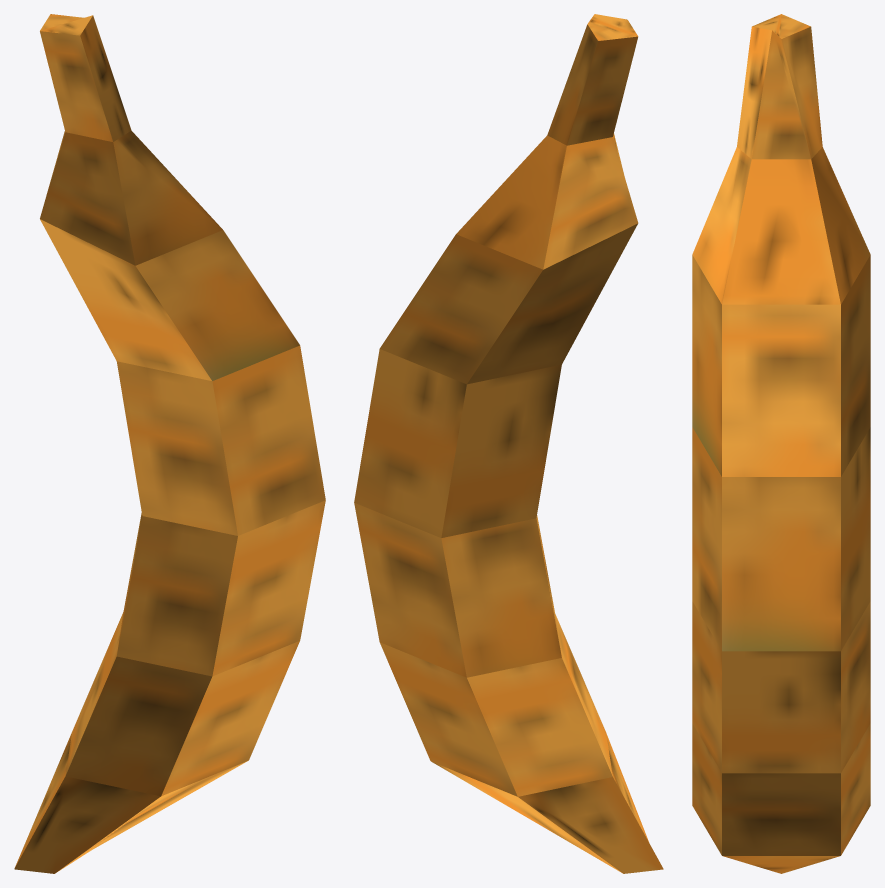
File: Platano V.1.obj
3 renders of one model, left to right at view 1: azimuth 30°, elevation 25°; view 2: azimuth 150°, elevation 25°; view 3: azimuth 270°, elevation 25°, orthographic.
Parts seen in each view (by area): view 1: banana; view 2: banana; view 3: banana.
Boxes of the visible parts, bbox=[...] form: banana: bbox=[14, 14, 325, 873]; banana: bbox=[354, 14, 663, 873]; banana: bbox=[692, 14, 870, 873].
Bounding box in the file's own units: 2.75 × 7.82 × 1.5.
1 material, 1 textured.
